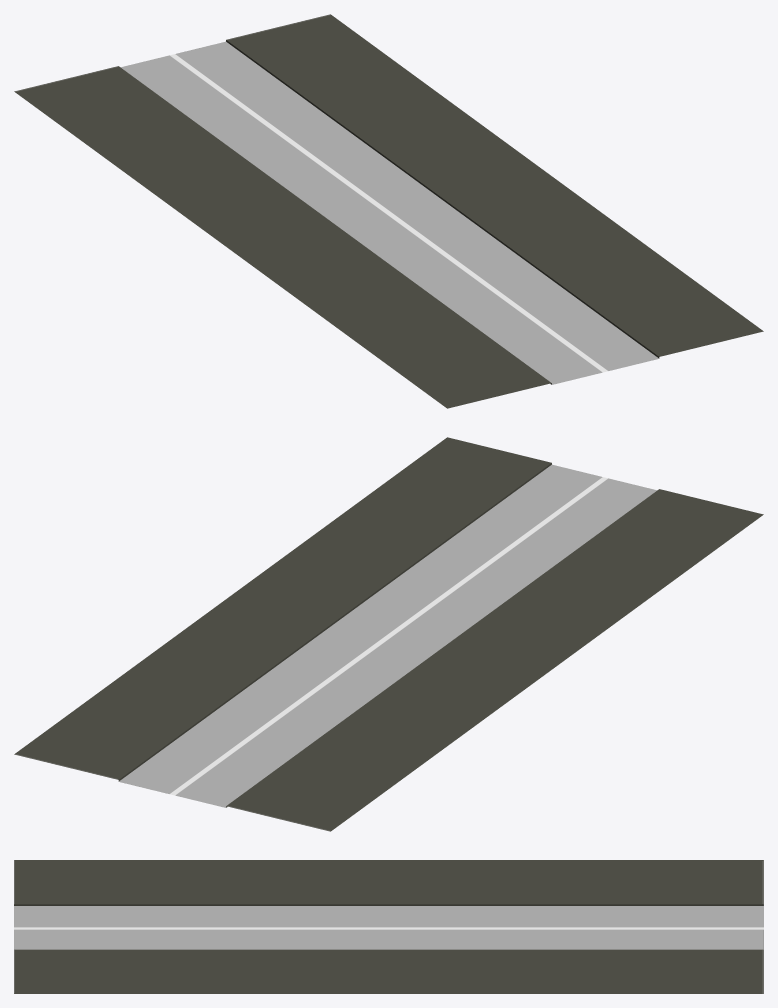
Rendered from Road 1.fbx.
3 views of the same model, one above another, from view 1: azimuth 30°, elevation 25°; view 2: azimuth 150°, elevation 25°; view 3: azimuth 270°, elevation 25° (orthographic). The views are drawn at different scales.
Parts seen in each view (by area): view 1: Plane; view 2: Plane; view 3: Plane.
Boxes of the visible parts, <box> form: Plane: <box>14,14,763,408</box>; Plane: <box>14,437,763,831</box>; Plane: <box>14,860,763,993</box>.
Bounding box in the file's own units: 1097 × 6.02 × 2600.
